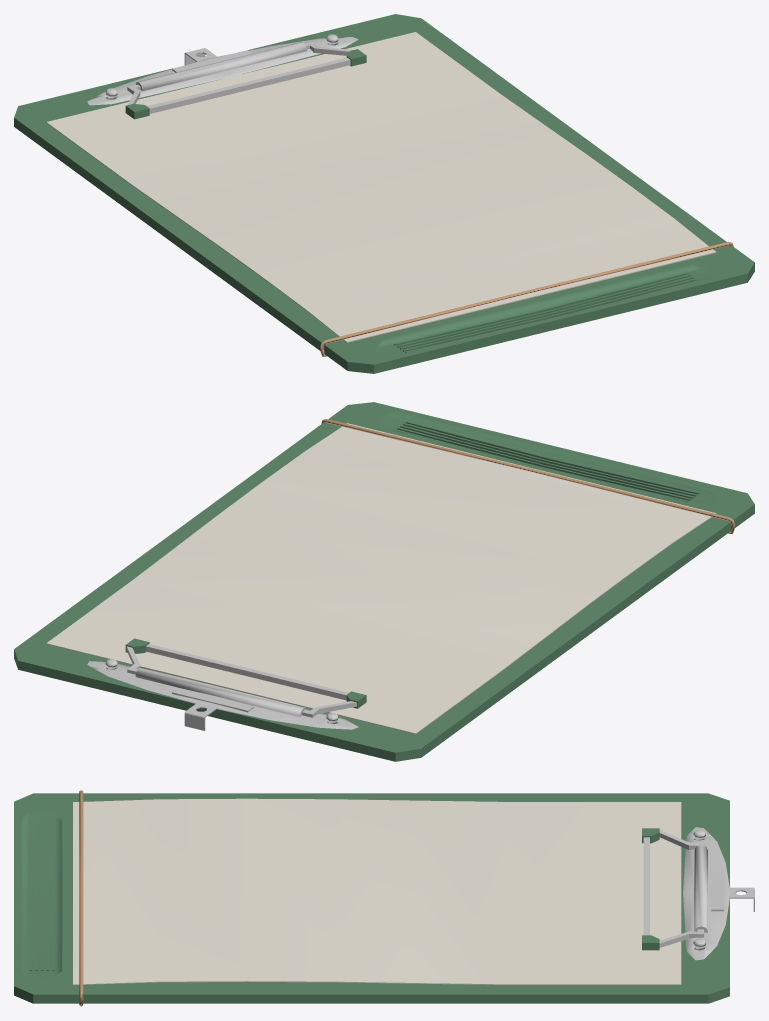
The model's file is Notepad.fbx.
3 renders of one model, top to bottom at view 1: azimuth 30°, elevation 25°; view 2: azimuth 150°, elevation 25°; view 3: azimuth 270°, elevation 25°, orthographic.
Visible parts, largest first — view 1: Cube; view 2: Cube; view 3: Cube.
Boxes of the visible parts, x1,y1,x2,y2 form: Cube: (14, 14, 754, 373); Cube: (14, 402, 754, 761); Cube: (14, 790, 754, 1006).
Bounding box in the file's own units: 186 × 9.26 × 285.
